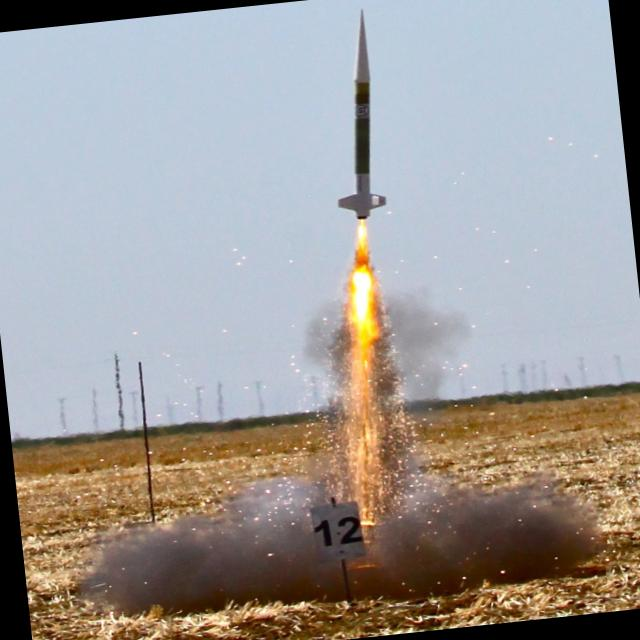rocket: (305, 9, 420, 451)
